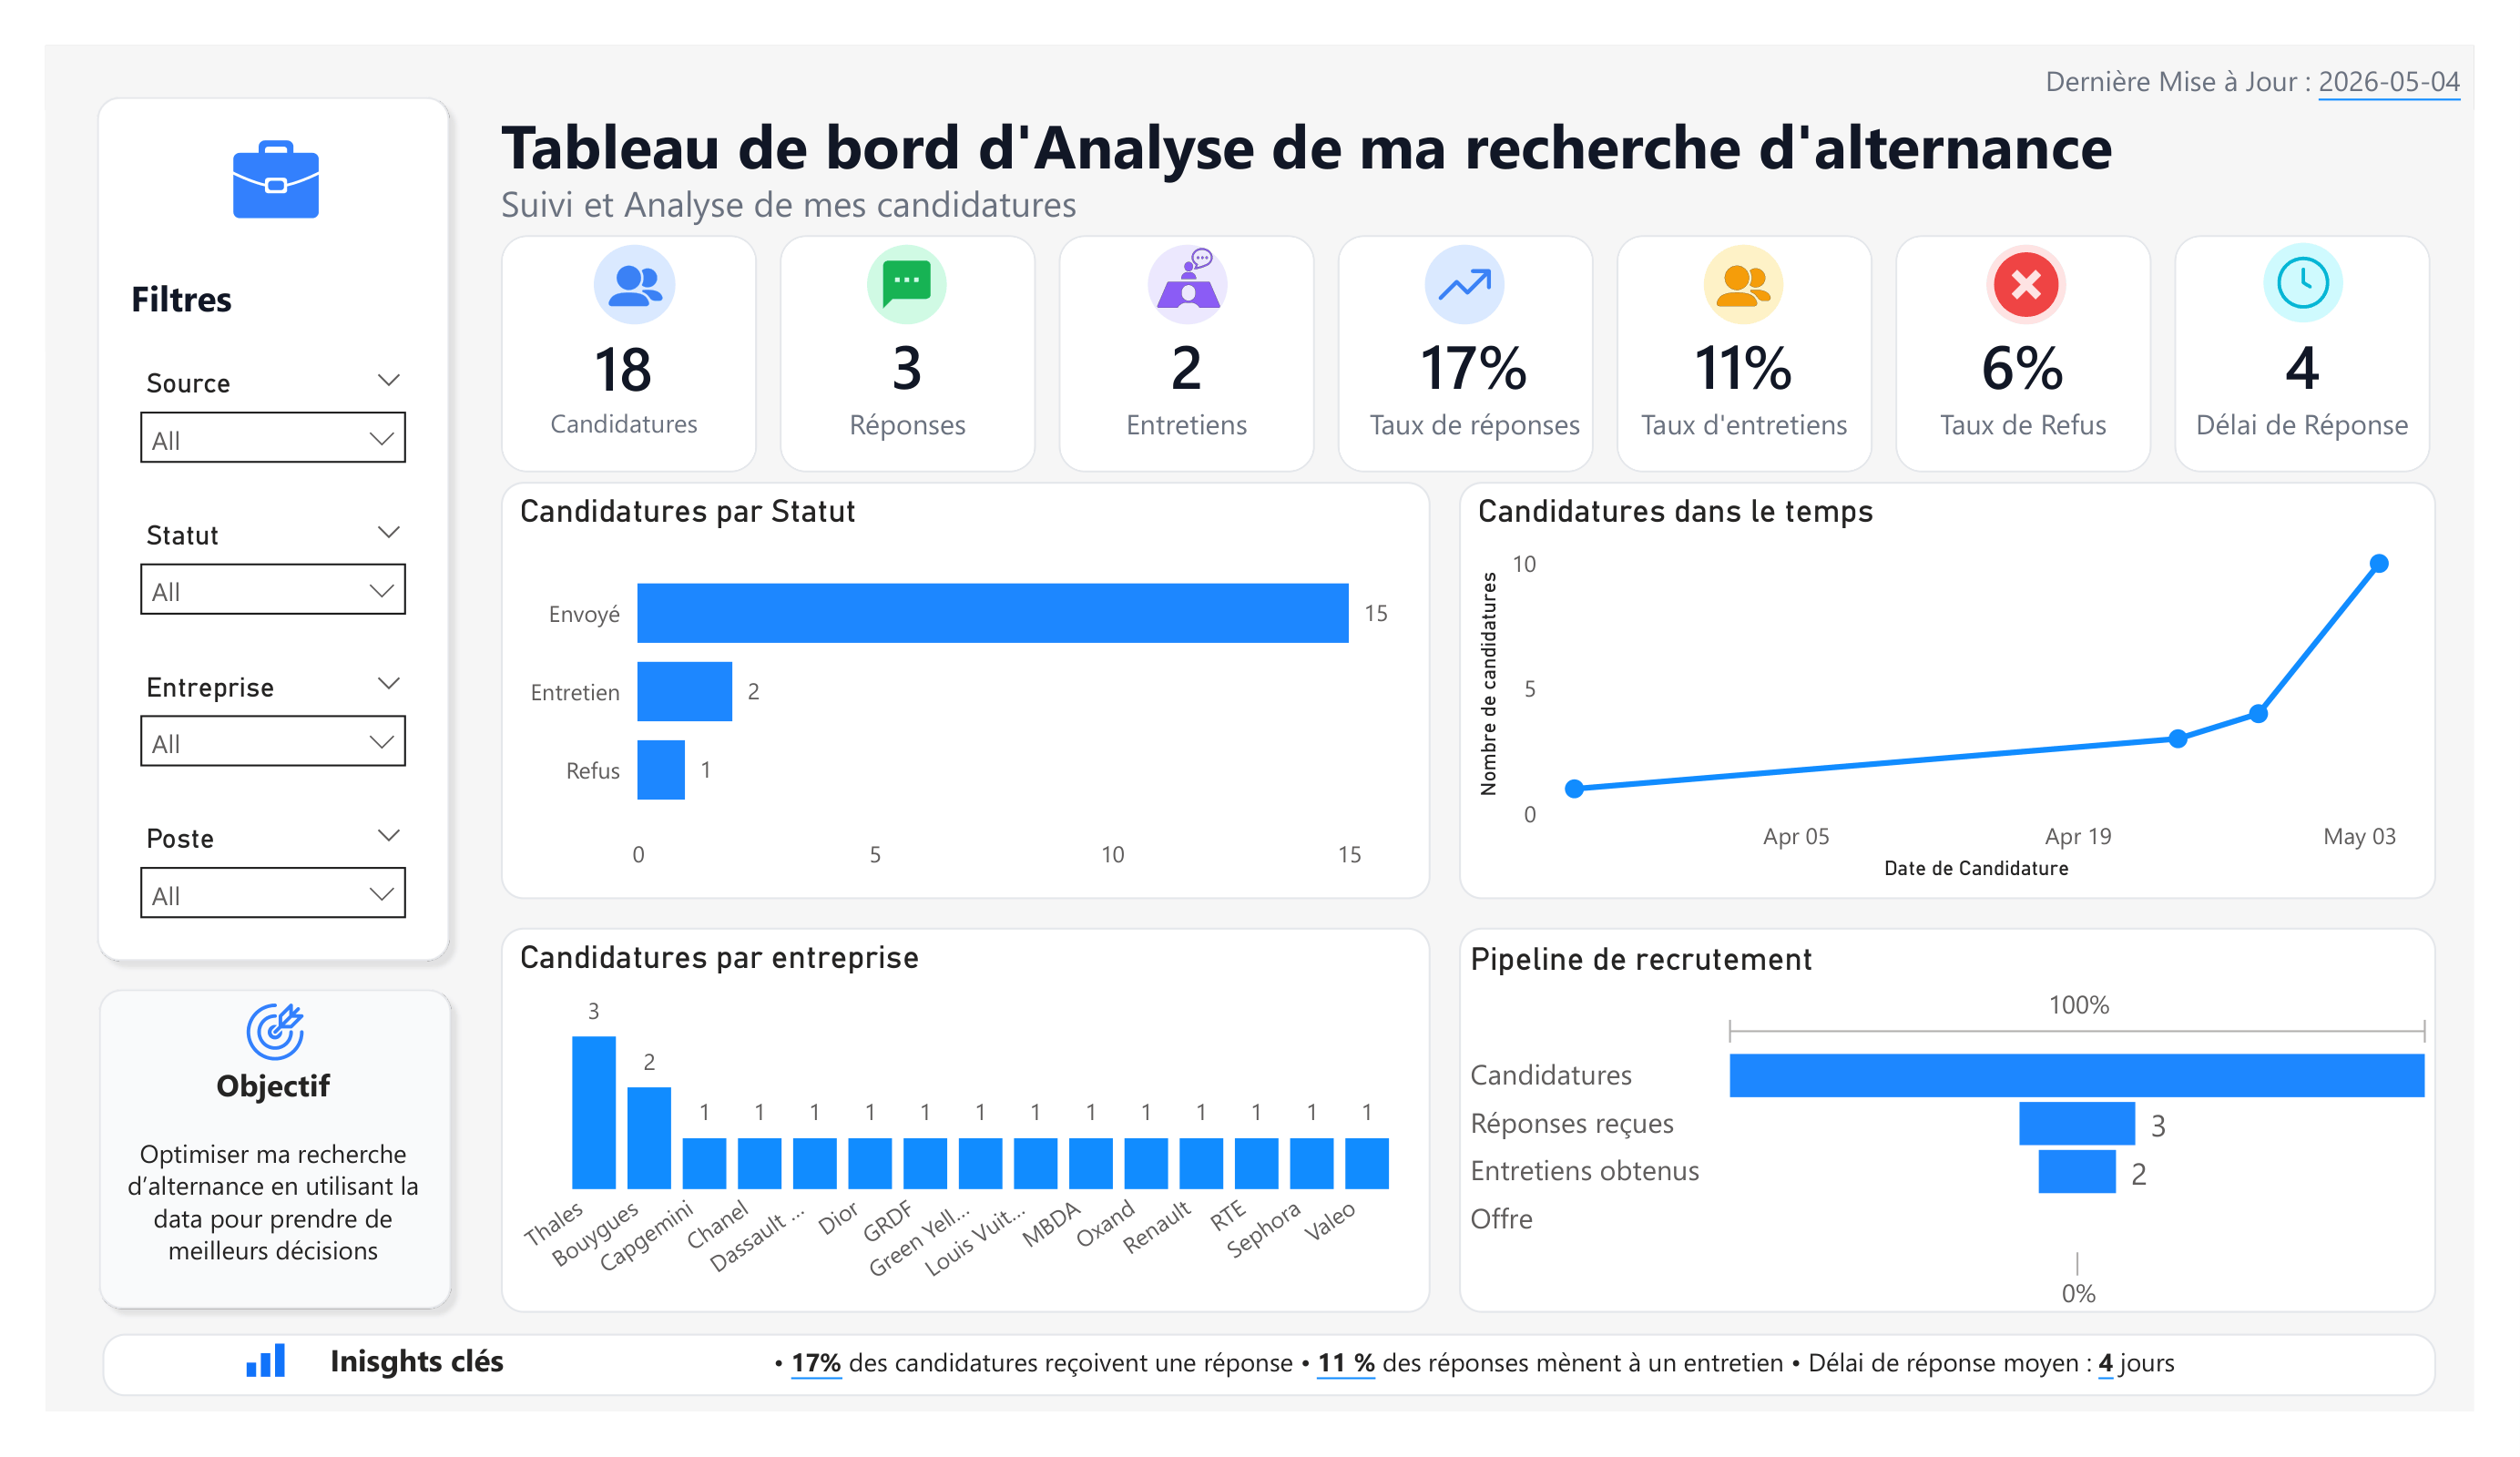

Layout of this report page (visuals, bound fields, positions):
{"tool":"powerbi","page":{"name":"Page 1","canvas":[1280,720],"ordinal":0},"visuals":[{"type":"shape","box":[20,20,200,470],"z":0},{"type":"clusteredBarChart","title":"Candidatures par Statut","fields":{"Category":["Applications.Statut1"],"Y":["CountNonNull(Applications.ID)1"]},"box":[240,230,490,220],"z":1000},{"type":"lineChart","title":"Candidatures dans le temps","fields":{"Y":["CountNonNull(Applications.ID)"],"Category":["Applications.Date_Candidature"]},"box":[745,230,515,220],"z":2000},{"type":"clusteredColumnChart","title":"Candidatures par entreprise","fields":{"Category":["Applications.Entreprise"],"Y":["CountNonNull(Applications.ID)"]},"box":[240,465,490,202.5],"z":3000},{"type":"funnel","title":"Pipeline de recrutement","fields":{"Y":["Applications.Sent Applications","Applications.Responses","Applications.Interviews","Applications.Offers"]},"box":[745,465,515,202.5],"z":4000},{"type":"cardVisual","title":"Nombre de Candidatures","fields":{"Data":["Applications.Total Applications"]},"box":[240,100,135,125],"z":5000},{"type":"cardVisual","title":"Temp moyen de réponse","fields":{"Data":["Applications.Average Response Time"]},"box":[1122,100,135,125],"z":6000},{"type":"cardVisual","title":"Taux  d''entretien","fields":{"Data":["Applications.Interview Rate1"]},"box":[828,99.8,135,125],"z":7000},{"type":"cardVisual","title":"Taux de réponses","fields":{"Data":["Applications.Response Rate1"]},"box":[681.4,100,135,125],"z":8000},{"type":"cardVisual","title":"Taux de Refus","fields":{"Data":["Applications.Rejection Rate"]},"box":[975,100,135,125],"z":9000},{"type":"textbox","box":[240,30,857.5,42.5],"z":10000},{"type":"textbox","box":[240,70,500,25],"z":11000},{"type":"textbox","box":[972.5,7.5,300,25],"z":12000},{"type":"cardVisual","title":"Taux de Refus","fields":{"Data":["Applications.Responses"]},"box":[387,100,135,125],"z":13000},{"type":"cardVisual","title":"Taux de Refus","fields":{"Data":["Applications.Interviews"]},"box":[534,100,135,125],"z":14000},{"type":"textbox","box":[45,120,150,25],"z":15000},{"type":"slicer","fields":{"Values":["Applications.Source"]},"box":[45,170,150,55],"z":16000},{"type":"slicer","fields":{"Values":["Applications.Statut"]},"box":[45,250,150,55],"z":17000},{"type":"slicer","fields":{"Values":["Applications.Entreprise"]},"box":[45,330,150,55],"z":18000},{"type":"slicer","fields":{"Values":["Applications.Poste"]},"box":[45,410,150,55],"z":19000},{"type":"shape","box":[21.2,490,200,182.5],"z":20000},{"type":"textbox","box":[30,520,180,158.8],"z":21000},{"type":"shape","box":[30,679.2,1230,32.5],"z":22000},{"type":"textbox","box":[150,682,1000,25.7],"z":23000},{"type":"image","box":[101,505,40,30],"z":24000},{"type":"image","box":[97.1,50,48.6,41.4],"z":25000},{"type":"shape","box":[433.3,104.9,42.2,42.2],"z":25000,"group":"g3"},{"type":"shape","box":[289.1,105,42.7,42],"z":25500,"group":"g1"},{"type":"group","id":"g1","title":"Group 1","box":[289.1,105,42.7,42],"z":26000},{"type":"group","id":"g2","title":"Group 2","box":[581,105,42,42],"z":27000},{"type":"shape","box":[1022.5,105.4,42,42],"z":27000,"group":"g6"},{"type":"shape","box":[1168.6,104.3,42,42],"z":28000,"group":"g7"},{"type":"group","id":"g3","title":"Group 3","box":[433.3,104.9,42.2,42.2],"z":28000},{"type":"shape","box":[581,105,42,42],"z":28000,"group":"g2"},{"type":"group","id":"g4","title":"Group 4","box":[727.1,105.3,41.4,41.4],"z":29000},{"type":"shape","box":[873.8,105.4,42,42],"z":29000,"group":"g5"},{"type":"group","id":"g5","title":"Group 5","box":[873.8,105.4,42.5,41.2],"z":30000},{"type":"image","box":[878.1,109.3,33.3,34.2],"z":30000,"group":"g5"},{"type":"shape","box":[727.1,105.3,42,42],"z":31000,"group":"g4"},{"type":"group","id":"g6","title":"Group 6","box":[1022.5,105.4,41.2,41.2],"z":31000},{"type":"image","box":[1026.3,109.8,34.4,33.1],"z":31000,"group":"g6"},{"type":"group","id":"g7","title":"Group 7","box":[1168.6,104.3,41.4,41.4],"z":32000},{"type":"image","box":[1172.6,108.3,34,34],"z":32000,"group":"g7"},{"type":"image","box":[293.2,108.7,34.5,34.7],"z":32001,"group":"g1"},{"type":"image","box":[439.4,111,30,30],"z":33000,"group":"g3"},{"type":"image","box":[105.7,682.9,20,20],"z":33000},{"type":"image","box":[585.5,106.4,33.1,32.3],"z":34000,"group":"g2"},{"type":"image","box":[731.1,109.3,34,34],"z":35000,"group":"g4"}]}

Visuals, with their boxes on the page's 1280x720 design canvas (x1, y1, x2, y2). These are canvas units, not pixel positions in the 2520x1457 screenshot, which may show the page scaled, cropped or inside an application window:
shape: Rect(20, 20, 220, 490)
"Candidatures par Statut" clusteredBarChart: Rect(240, 230, 730, 450)
"Candidatures dans le temps" lineChart: Rect(745, 230, 1260, 450)
"Candidatures par entreprise" clusteredColumnChart: Rect(240, 465, 730, 668)
"Pipeline de recrutement" funnel: Rect(745, 465, 1260, 668)
"Nombre de Candidatures" cardVisual: Rect(240, 100, 375, 225)
"Temp moyen de réponse" cardVisual: Rect(1122, 100, 1257, 225)
"Taux  d''entretien" cardVisual: Rect(828, 100, 963, 225)
"Taux de réponses" cardVisual: Rect(681, 100, 816, 225)
"Taux de Refus" cardVisual: Rect(975, 100, 1110, 225)
textbox: Rect(240, 30, 1098, 72)
textbox: Rect(240, 70, 740, 95)
textbox: Rect(972, 8, 1272, 32)
"Taux de Refus" cardVisual: Rect(387, 100, 522, 225)
"Taux de Refus" cardVisual: Rect(534, 100, 669, 225)
textbox: Rect(45, 120, 195, 145)
slicer - Applications.Source: Rect(45, 170, 195, 225)
slicer - Applications.Statut: Rect(45, 250, 195, 305)
slicer - Applications.Entreprise: Rect(45, 330, 195, 385)
slicer - Applications.Poste: Rect(45, 410, 195, 465)
shape: Rect(21, 490, 221, 672)
textbox: Rect(30, 520, 210, 679)
shape: Rect(30, 679, 1260, 712)
textbox: Rect(150, 682, 1150, 708)
image: Rect(101, 505, 141, 535)
image: Rect(97, 50, 146, 91)
shape: Rect(433, 105, 476, 147)
shape: Rect(289, 105, 332, 147)
"Group 1" group: Rect(289, 105, 332, 147)
"Group 2" group: Rect(581, 105, 623, 147)
shape: Rect(1022, 105, 1064, 147)
shape: Rect(1169, 104, 1211, 146)
"Group 3" group: Rect(433, 105, 476, 147)
shape: Rect(581, 105, 623, 147)
"Group 4" group: Rect(727, 105, 768, 147)
shape: Rect(874, 105, 916, 147)
"Group 5" group: Rect(874, 105, 916, 147)
image: Rect(878, 109, 911, 144)
shape: Rect(727, 105, 769, 147)
"Group 6" group: Rect(1022, 105, 1064, 147)
image: Rect(1026, 110, 1061, 143)
"Group 7" group: Rect(1169, 104, 1210, 146)
image: Rect(1173, 108, 1207, 142)
image: Rect(293, 109, 328, 143)
image: Rect(439, 111, 469, 141)
image: Rect(106, 683, 126, 703)
image: Rect(586, 106, 619, 139)
image: Rect(731, 109, 765, 143)
